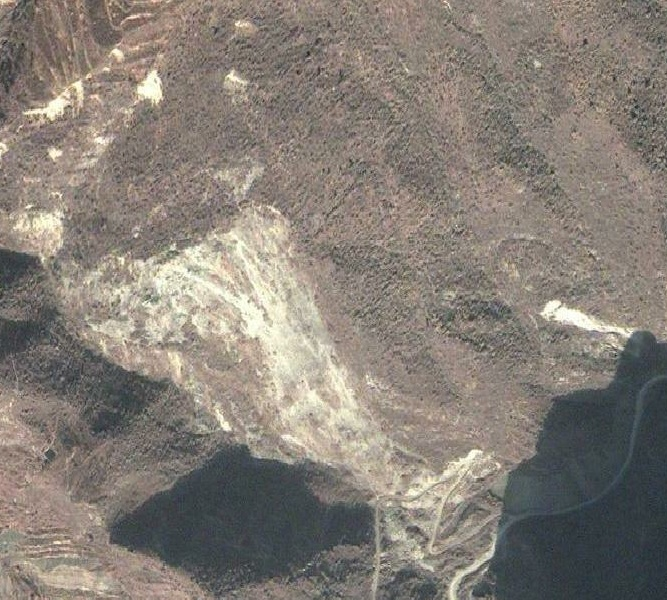slope: (75, 195, 500, 577), (533, 296, 661, 365), (9, 195, 66, 267), (133, 65, 170, 109)
